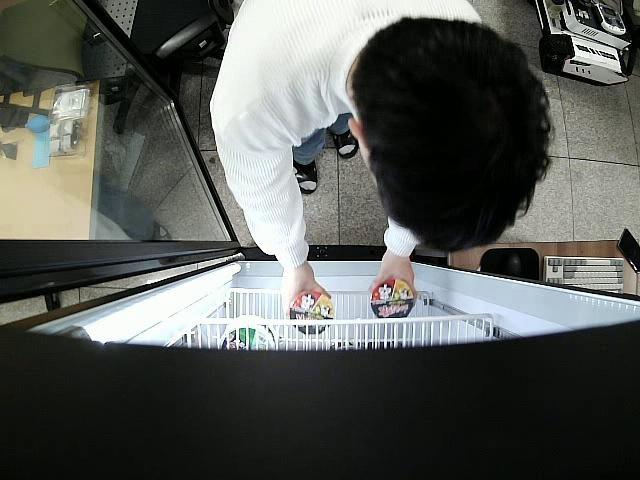08_buldak_S: (288, 291, 335, 336), (372, 278, 414, 317)
